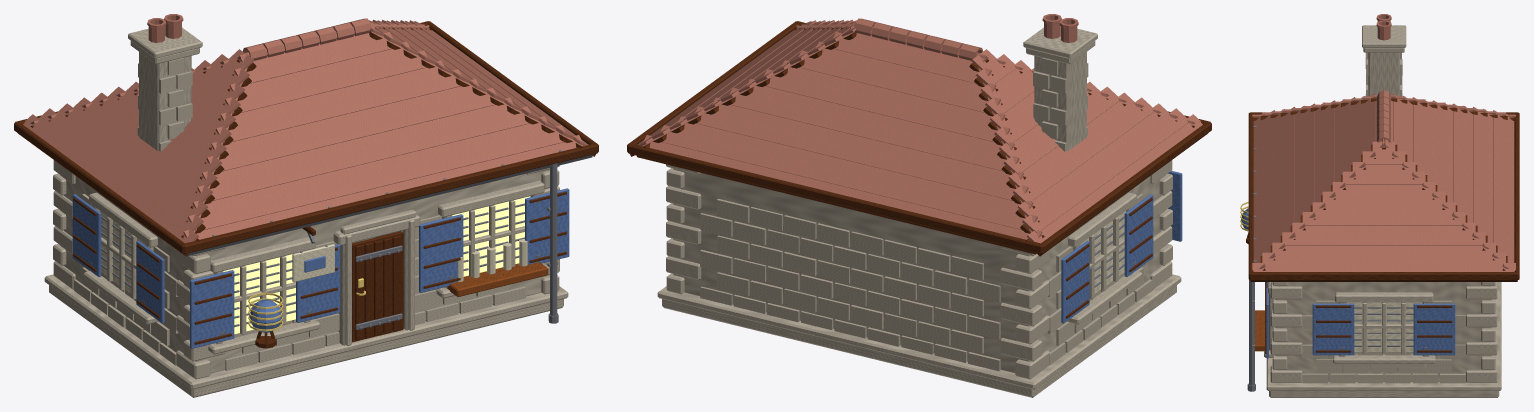
Rendered from fantasy-mmo-city-and-townsfolk-cartographer-shop-62db4476__32735.glb.
3 views of the same model, side by side, from view 1: azimuth 30°, elevation 25°; view 2: azimuth 150°, elevation 25°; view 3: azimuth 270°, elevation 25° (orthographic). The views are drawn at different scales.
Parts seen in each view (by area): view 1: cartographer-shop, door/timber, sign/plaster, door/iron; view 2: cartographer-shop; view 3: cartographer-shop.
Part boxes in pixels (x1,y1,x2,y2): cartographer-shop: [14, 14, 598, 397]; door/timber: [352, 231, 403, 342]; sign/plaster: [292, 244, 334, 282]; door/iron: [355, 245, 402, 329]; cartographer-shop: [627, 14, 1211, 397]; cartographer-shop: [1240, 14, 1519, 397].
Size of the model in its own units: 10.93 by 7.9 by 7.96.
9 materials, 6 textured.
